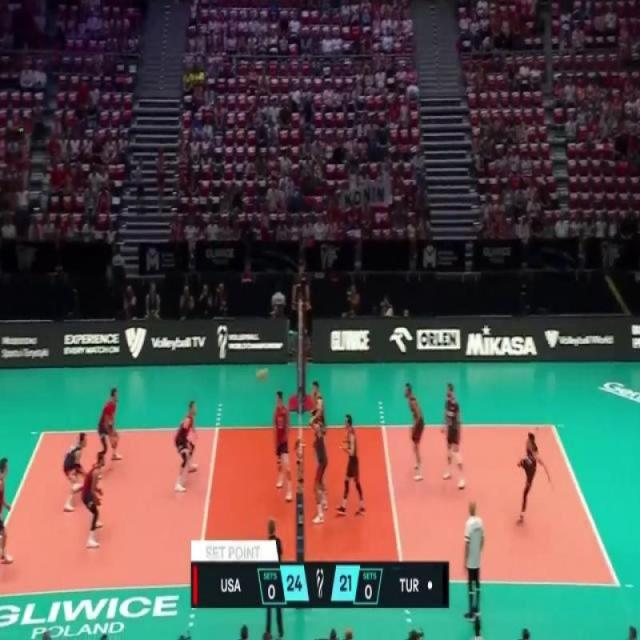volleyball: (253, 365, 270, 383)
